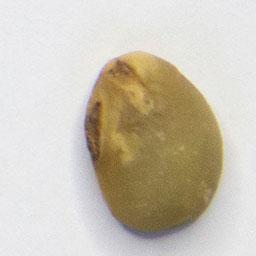defect: (81, 48, 228, 235)
